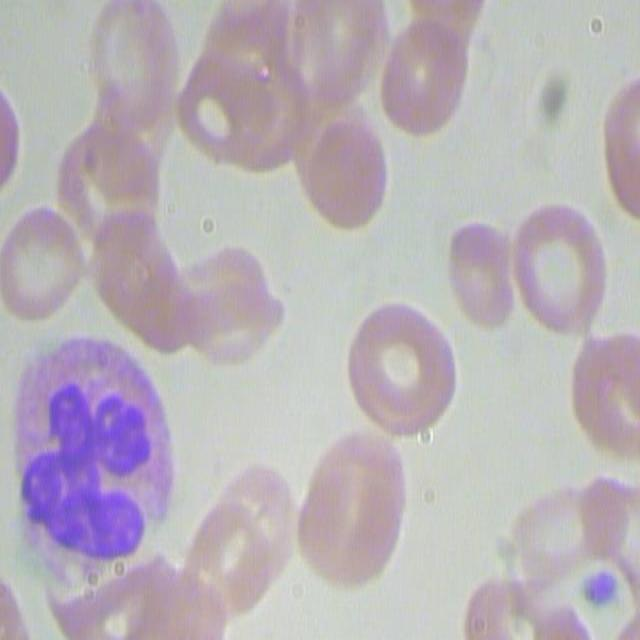RBC: (176, 1, 306, 183), (293, 422, 406, 589), (188, 453, 296, 619), (340, 292, 456, 444), (89, 207, 198, 355), (172, 238, 284, 376), (54, 111, 162, 252), (506, 198, 609, 341), (269, 2, 392, 115), (290, 101, 388, 232), (380, 9, 474, 140), (85, 2, 181, 128), (0, 203, 89, 327), (566, 321, 640, 461), (444, 214, 516, 335), (457, 574, 562, 640), (602, 70, 640, 222)
WBC: (17, 326, 185, 592)
